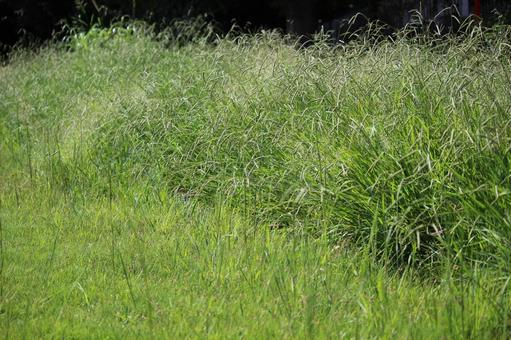overgrown grass: (2, 35, 510, 268)
